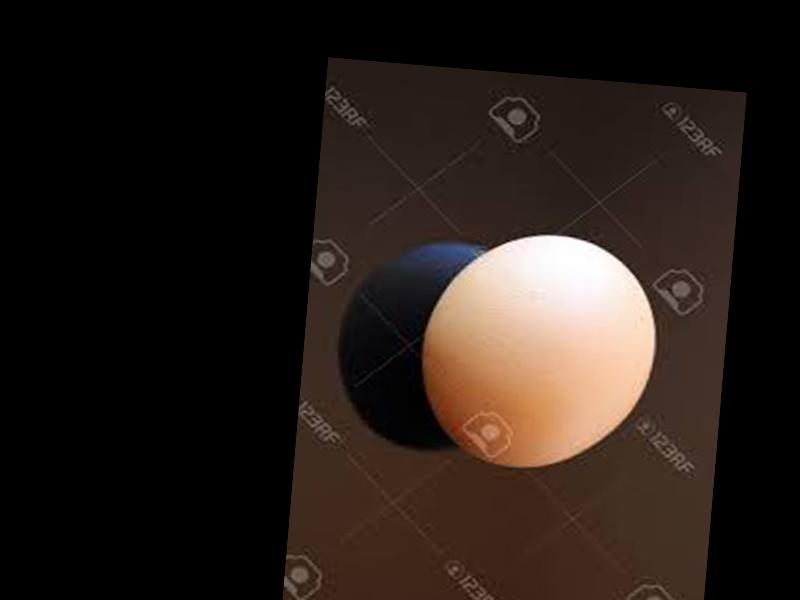Eggs: (411, 223, 664, 476)
